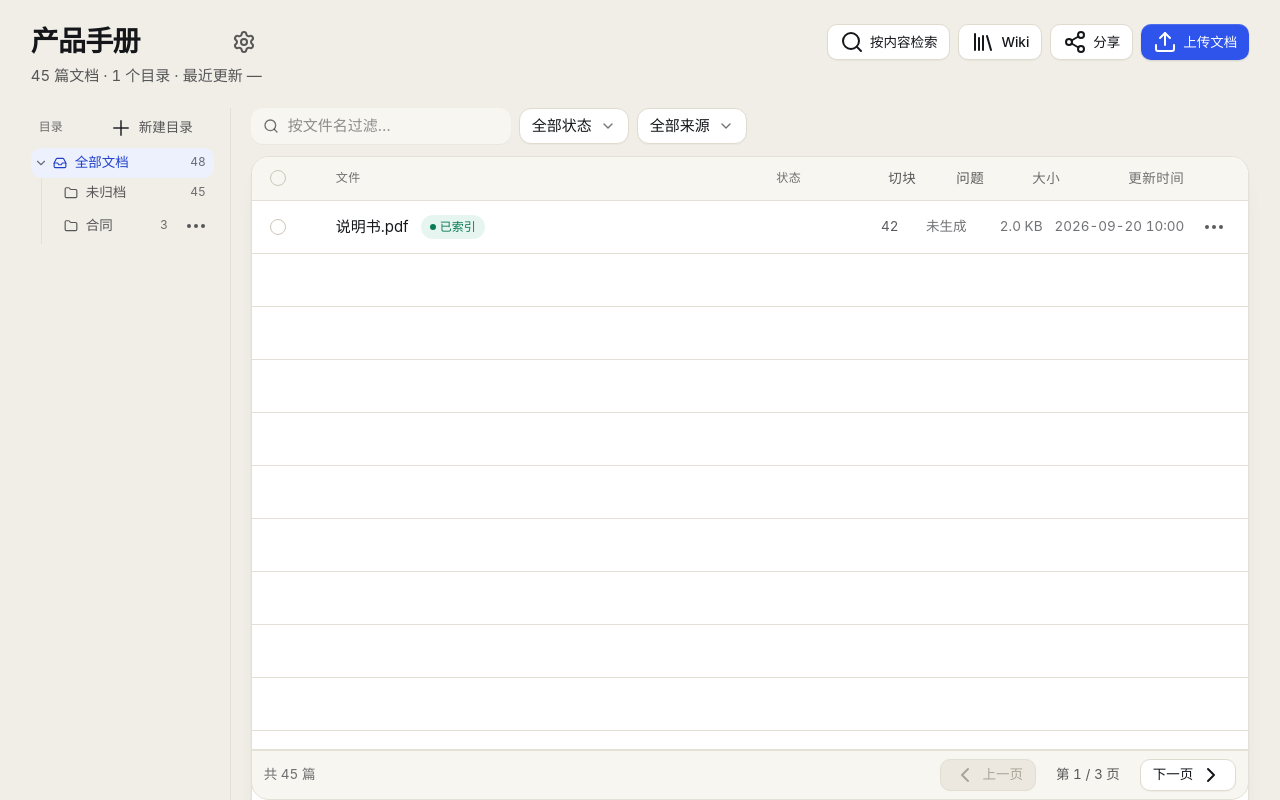
Scenario: 多选与批量 › 跨页选择如实说明"另有 N 篇不在本页"（翻页不清空勾选）
Expected: the text "说明书.pdf" is shown, top-left (336, 215), bottom-right (409, 238)
What coordinates should you click on to do the following:
click the checkbox named "选择 说明书.pdf"
I would click on:
 (278, 226)
Its box is top-left (270, 218), bottom-right (286, 234).
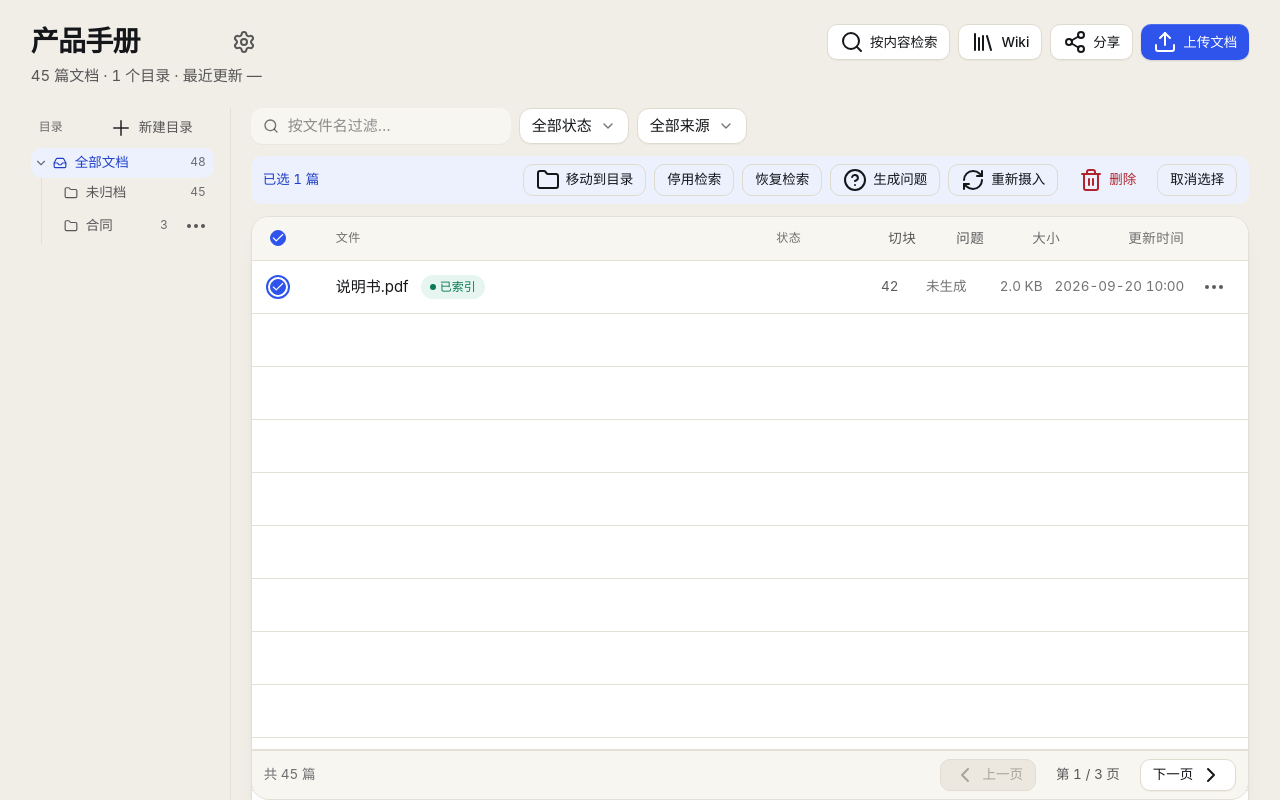
What coordinates should you click on to do the following:
click the button "下一页"
I would click on:
 (1188, 775)
Its box is top-left (1140, 759), bottom-right (1236, 791).
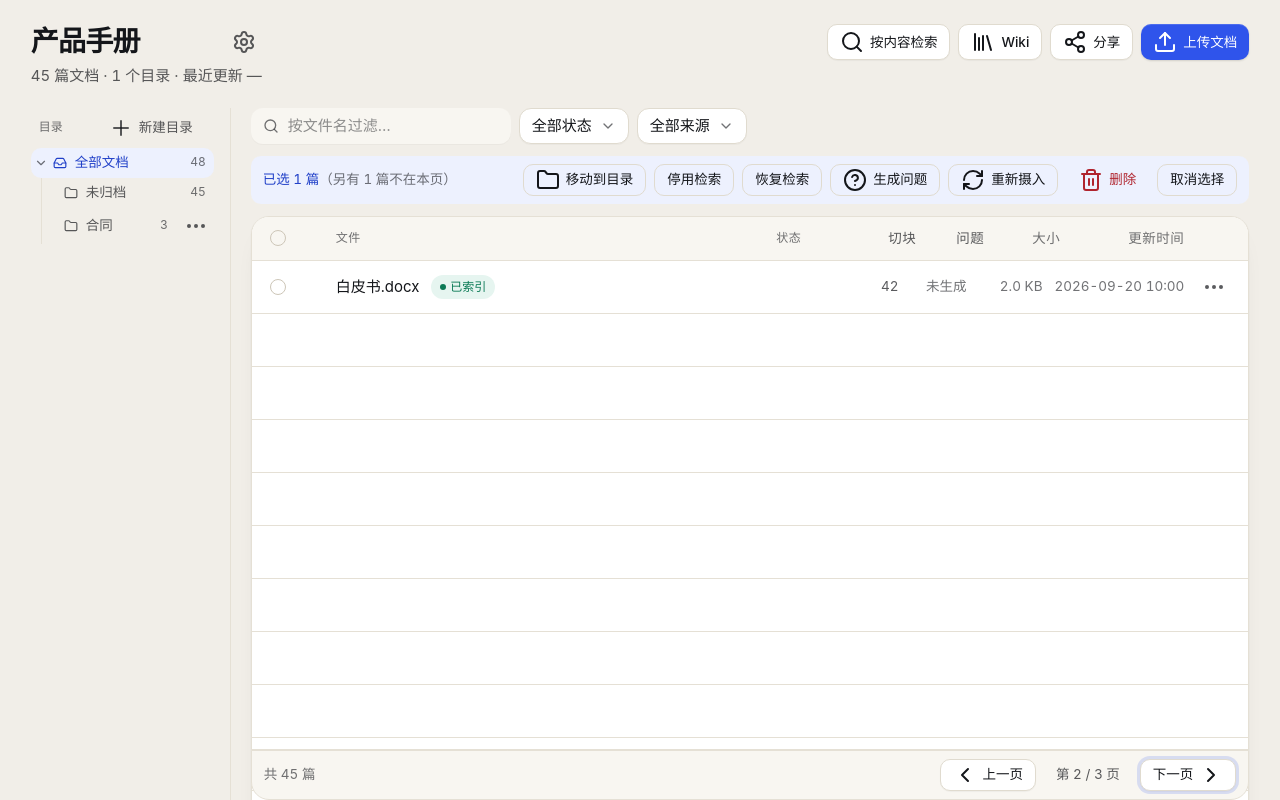
What coordinates should you click on to do the following:
click the checkbox named "选择 白皮书.docx"
I would click on:
 (278, 286)
Its box is top-left (270, 278), bottom-right (286, 294).
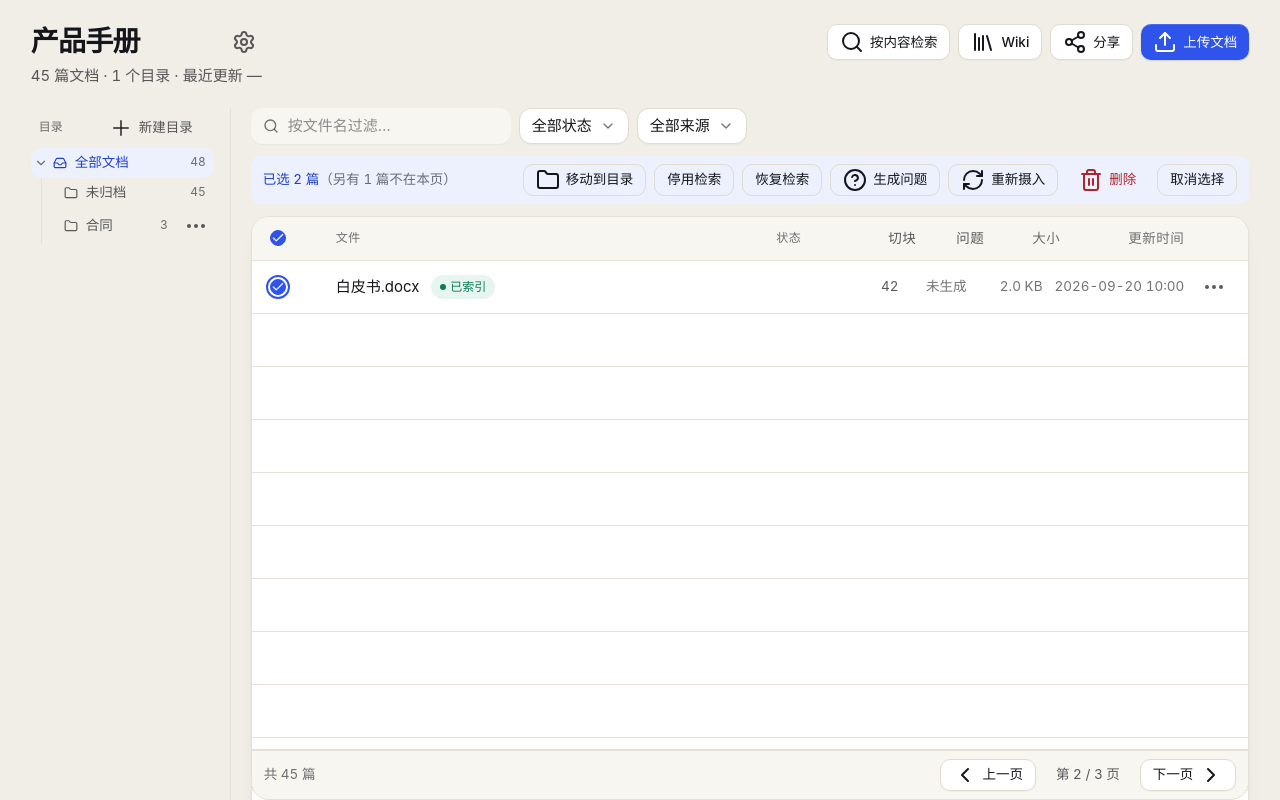
Expected: the text "（另有 1 篇不在本页）" is shown, top-left (319, 171), bottom-right (457, 187)
Expected: the text "已选 2 篇（另有 1 篇不在本页）" is shown, top-left (263, 169), bottom-right (457, 190)
